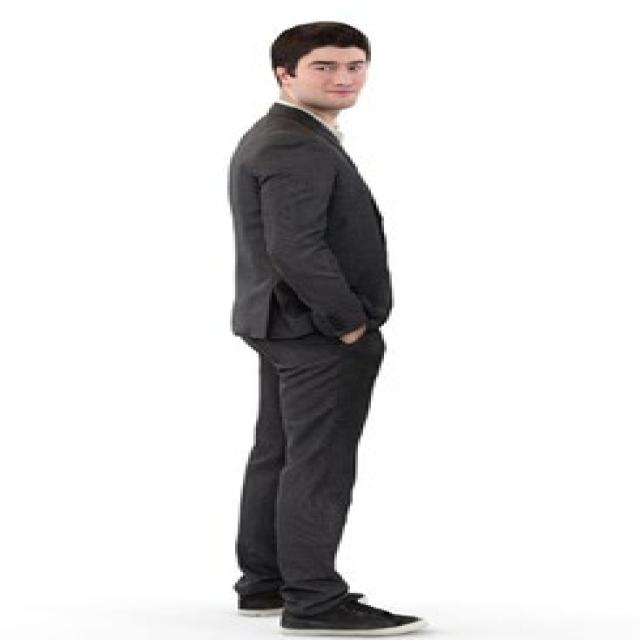standing: (220, 20, 430, 634)
